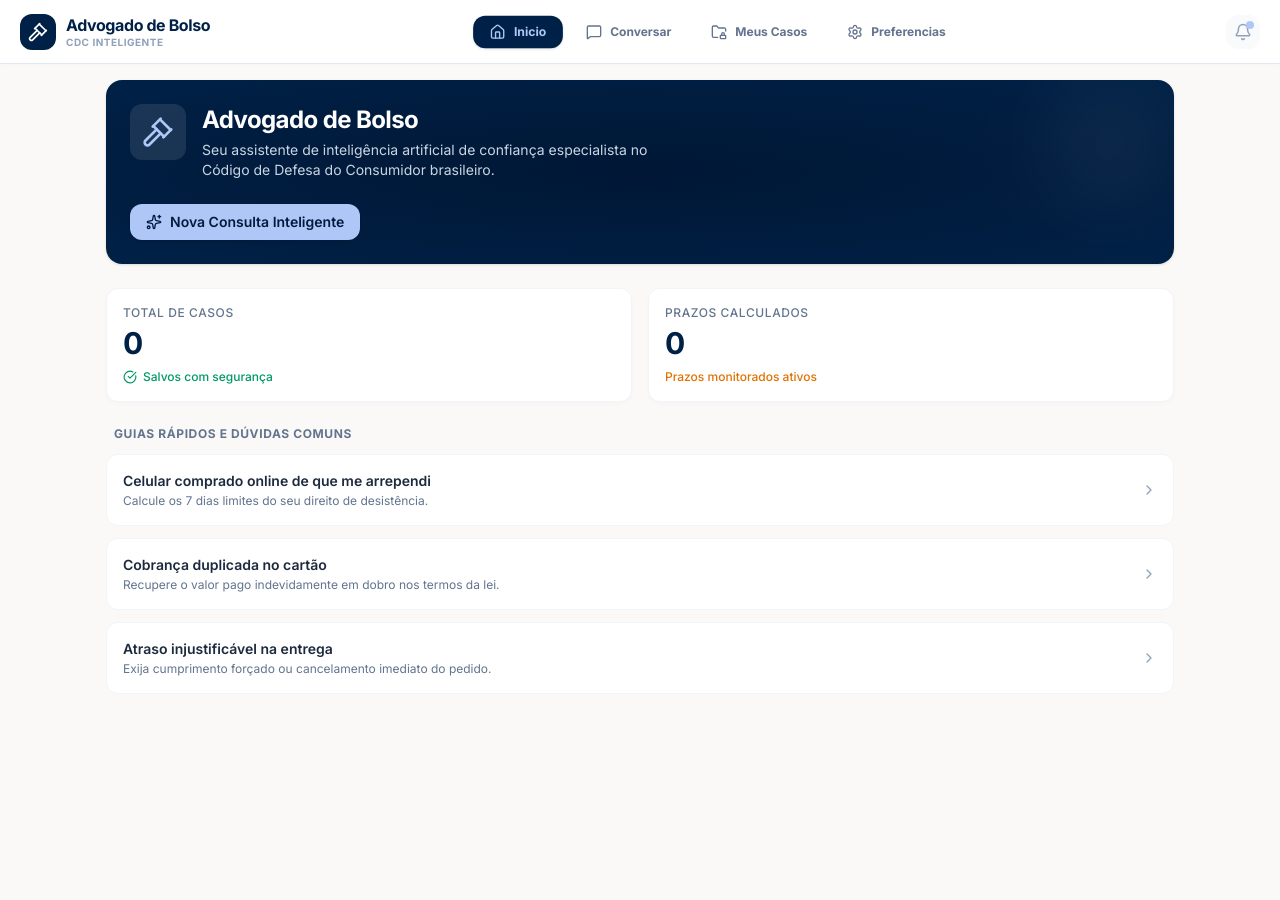
Test: App frontend integration › a blocked first message renders blocked_message and the next send reuses the returned session id and original metadata
Click the button "Conversar": (629, 32) [570,16,687,48]
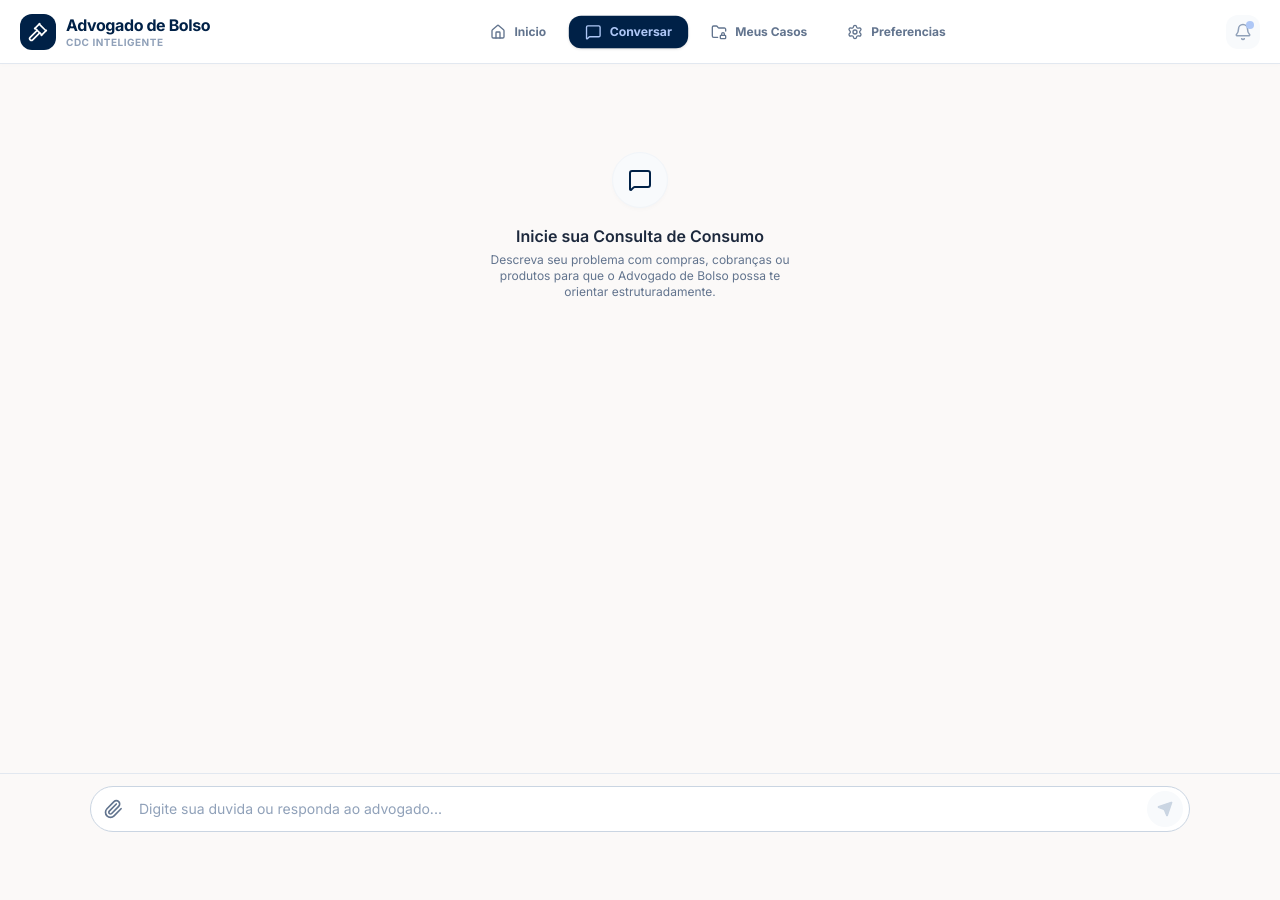
Result: the heading "Inicie sua Consulta de Consumo" is shown at [516,224,764,248]
In the field with placeholder "Digite sua duvida ou responda ao advogado...": (641, 809) [135,787,1147,831], type "Comprei um celular online e me arrependi."
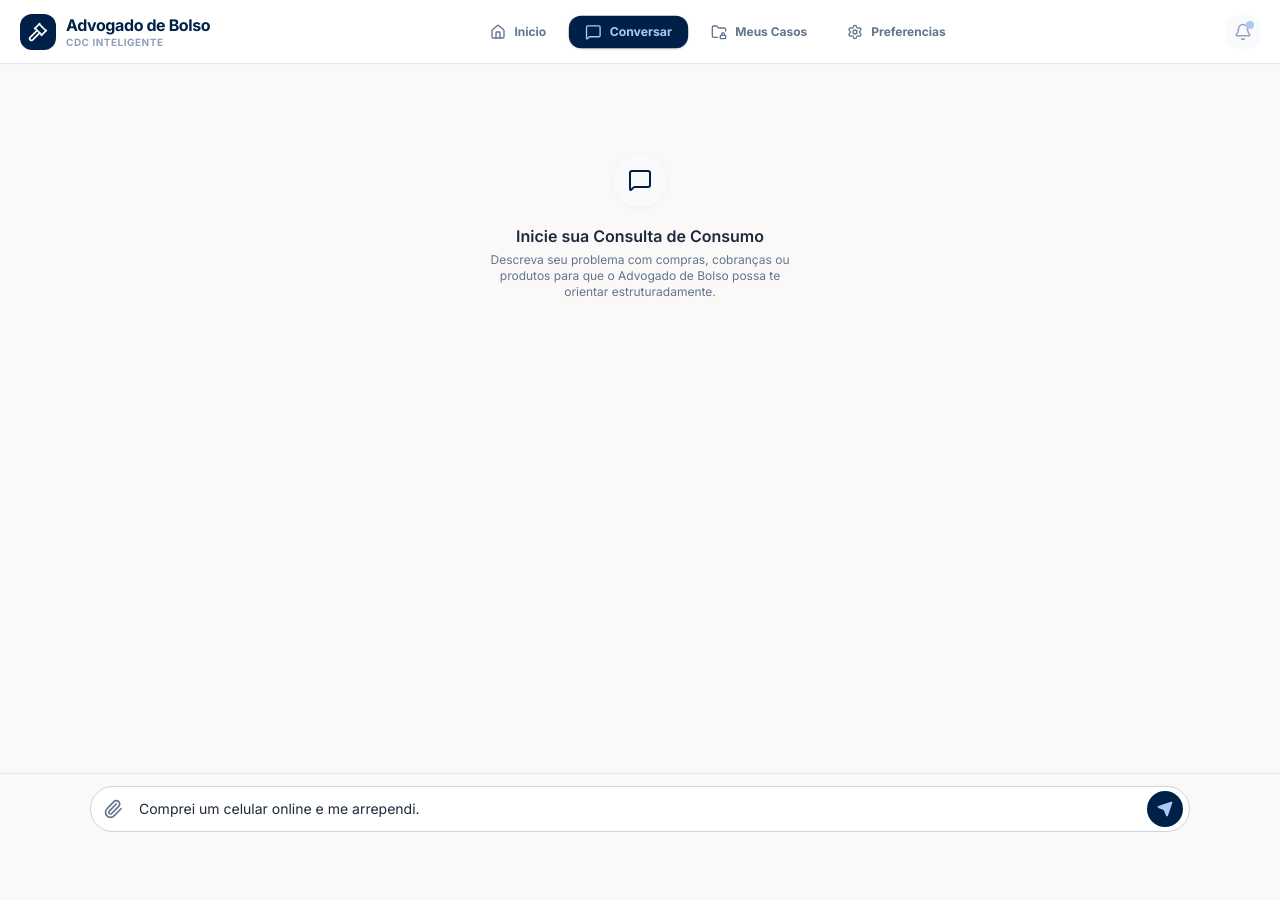
Result: the button with id "send-button-click" is shown
Click the button with id "send-button-click": (1165, 809) [1147,791,1183,827]
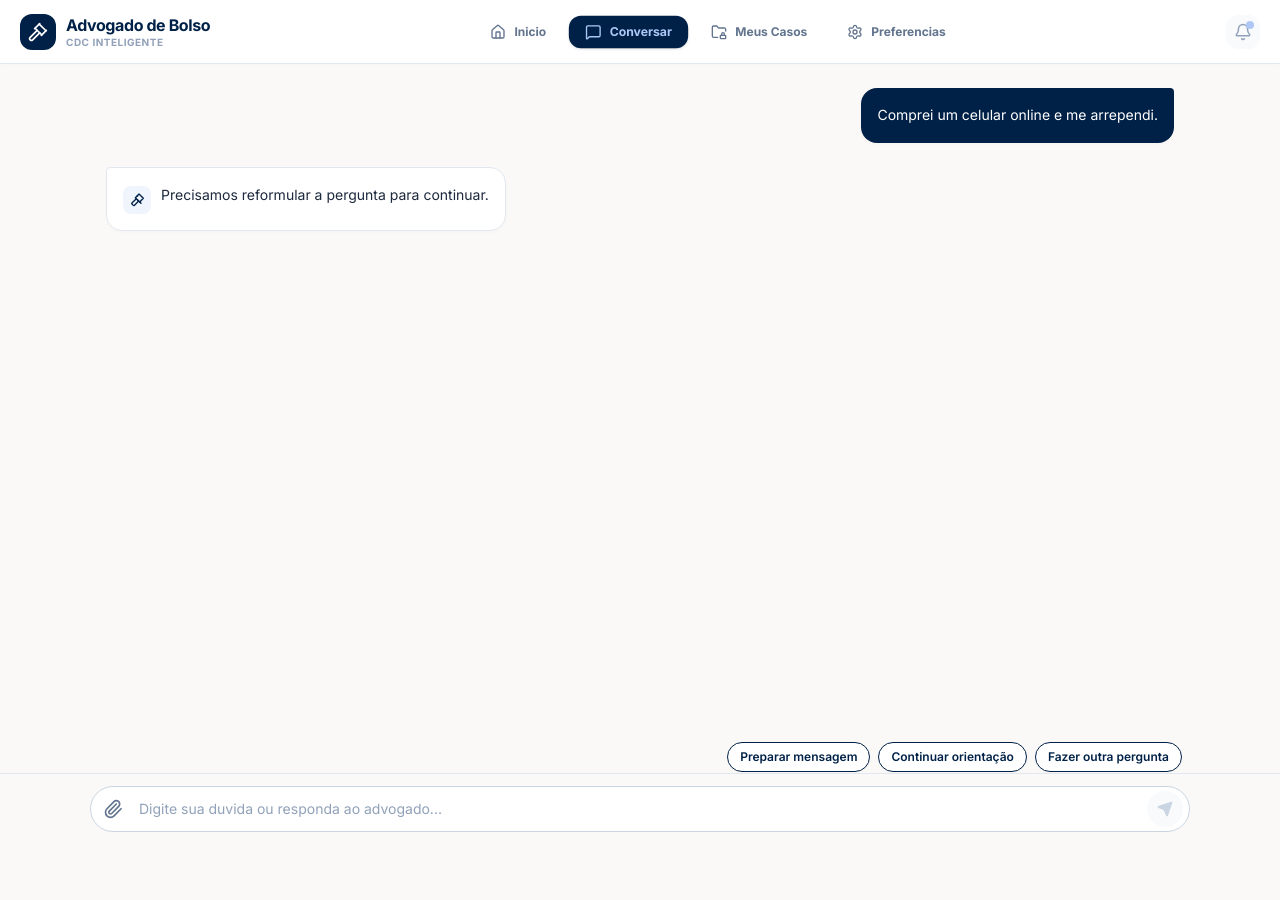
Result: the text "Precisamos reformular a pergunta para continuar." is shown at [161,184,489,207]
In the field with placeholder "Digite sua duvida ou responda ao advogado...": (641, 809) [135,787,1147,831], type "Tenho mais detalhes sobre o recebimento."
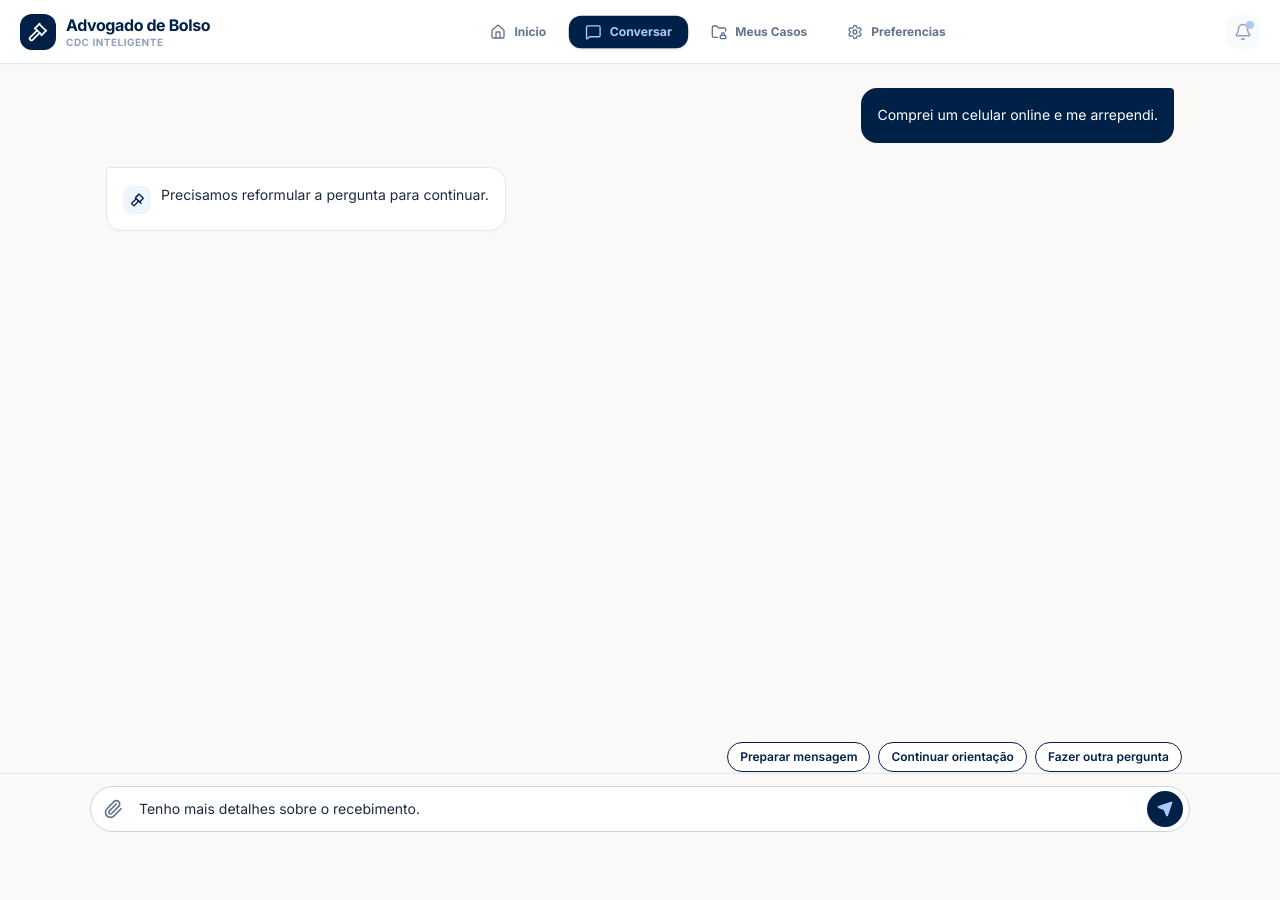
Result: the button with id "send-button-click" is shown
Click the button with id "send-button-click": (1165, 809) [1147,791,1183,827]
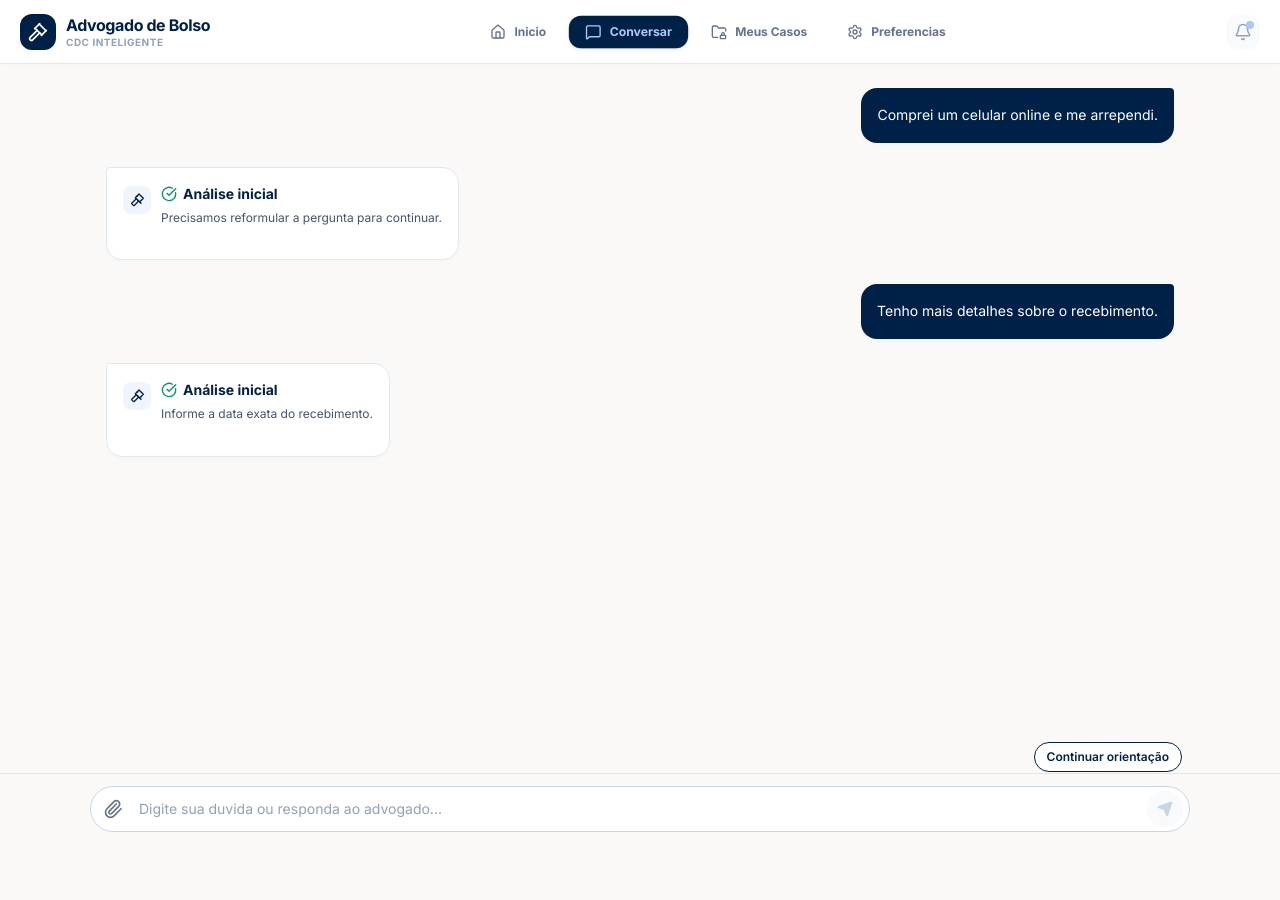
Result: the text "Informe a data exata do recebimento." is shown at [161,404,373,424]
